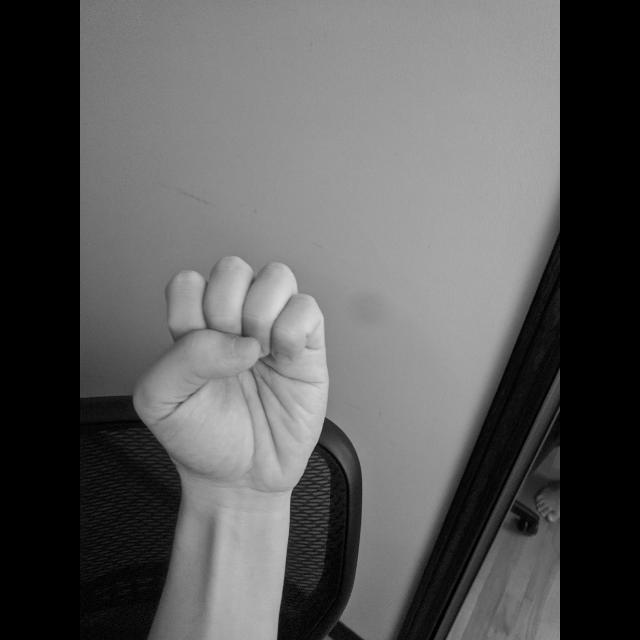E: (130, 250, 334, 506)
